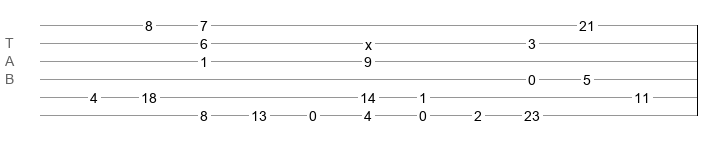0: (309, 108, 317, 118), (419, 108, 427, 118), (528, 72, 536, 82)
1: (200, 54, 208, 64), (419, 90, 427, 100)
11: (634, 90, 650, 100)
13: (251, 108, 267, 118)
14: (360, 90, 376, 100)
18: (141, 90, 157, 100)
2: (474, 108, 482, 118)
21: (579, 18, 595, 28)
23: (524, 108, 540, 118)
3: (528, 36, 536, 46)
4: (90, 90, 98, 100), (364, 108, 372, 118)
5: (583, 72, 591, 82)
6: (200, 36, 208, 46)
7: (200, 18, 208, 28)
8: (145, 18, 153, 28), (200, 108, 208, 118)
9: (364, 54, 372, 64)
x: (365, 37, 372, 45)
